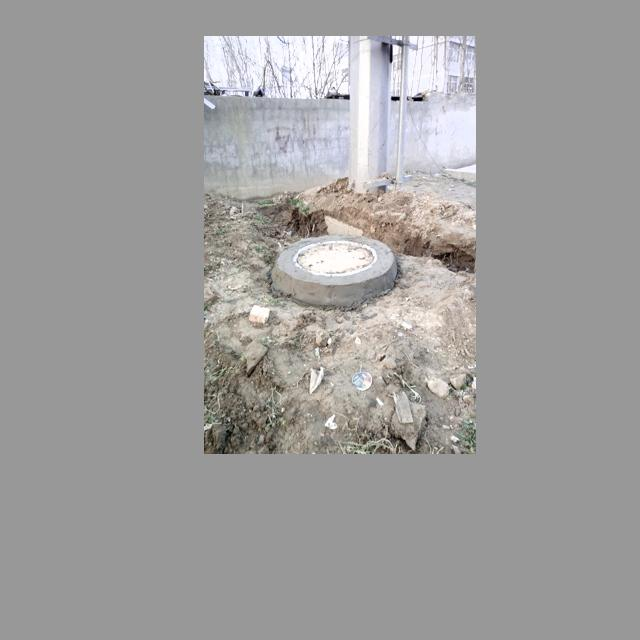good: (293, 239, 377, 275)
